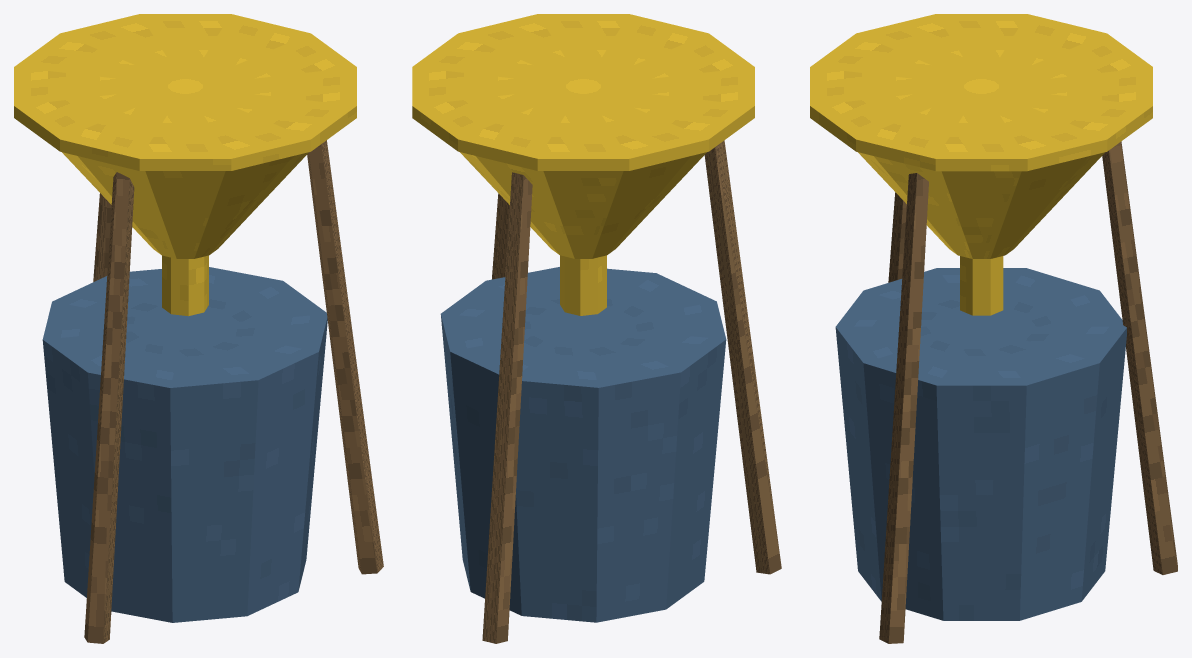
The model's file is tr_funnel.glb.
The picture shows the model from 3 angles, left to right: view 1: azimuth 30°, elevation 25°; view 2: azimuth 150°, elevation 25°; view 3: azimuth 270°, elevation 25°; orthographic projection.
Visible parts, largest first — view 1: block_bucket, block_funnel rim, block_leg (×3), block_funnel, block_spout; view 2: block_bucket, block_funnel rim, block_leg (×3), block_funnel, block_spout; view 3: block_bucket, block_funnel rim, block_leg (×3), block_funnel, block_spout.
Part boxes in pixels (x1=…): block_bucket: x1=42, y1=267, x2=327, y2=622; block_funnel rim: x1=14, y1=14, x2=356, y2=170; block_leg (×3): x1=84, y1=140, x2=383, y2=643; block_funnel: x1=62, y1=152, x2=308, y2=258; block_spout: x1=162, y1=255, x2=208, y2=316; block_bucket: x1=440, y1=267, x2=726, y2=622; block_funnel rim: x1=412, y1=14, x2=754, y2=170; block_leg (×3): x1=482, y1=140, x2=781, y2=643; block_funnel: x1=460, y1=152, x2=706, y2=258; block_spout: x1=560, y1=255, x2=606, y2=315; block_bucket: x1=835, y1=268, x2=1126, y2=620; block_funnel rim: x1=810, y1=14, x2=1152, y2=171; block_leg (×3): x1=879, y1=141, x2=1177, y2=643; block_funnel: x1=858, y1=152, x2=1105, y2=258; block_spout: x1=960, y1=256, x2=1003, y2=315.
Size of the model in its own units: 0.3088 by 0.4774 by 0.3272.
Materials: 1 (1 with a texture image).
